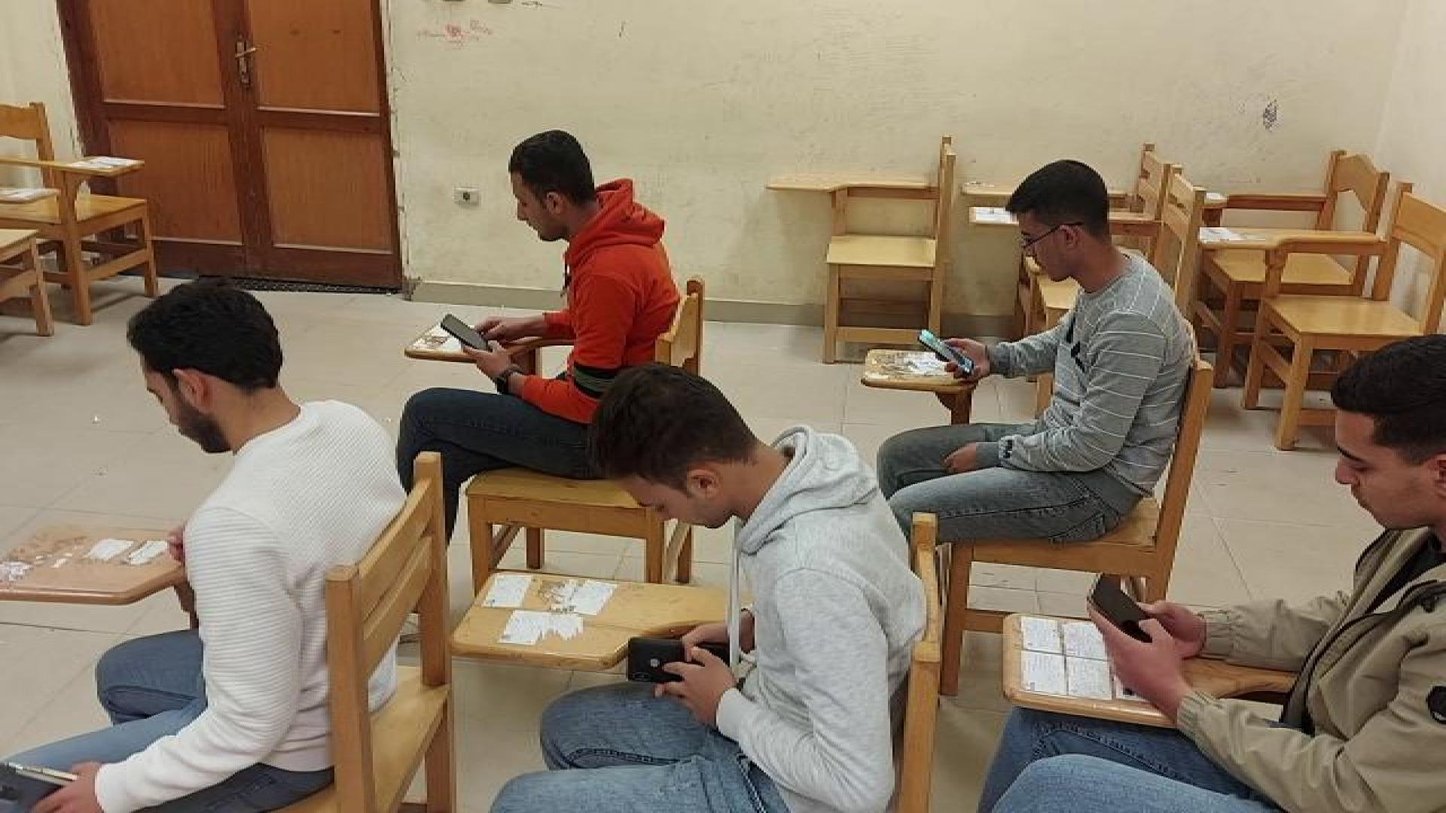phone: (1084, 569, 1166, 647), (627, 636, 724, 685), (0, 760, 84, 807), (916, 328, 975, 372), (439, 313, 494, 352)
